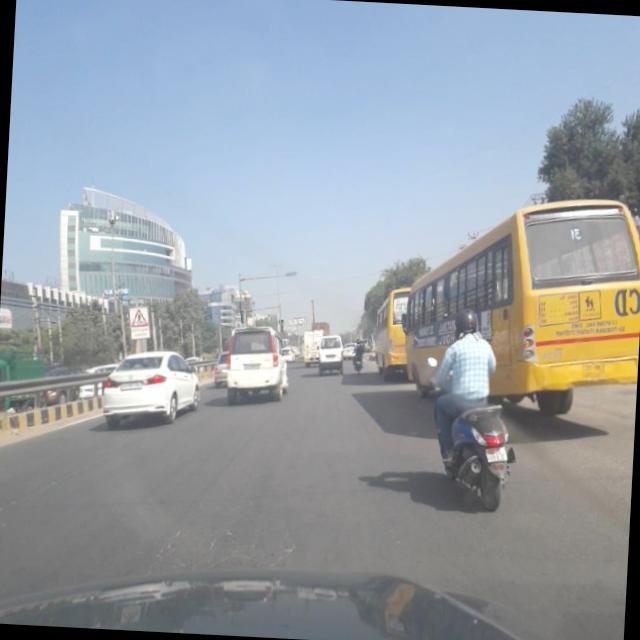crack: (122, 477, 314, 588)
